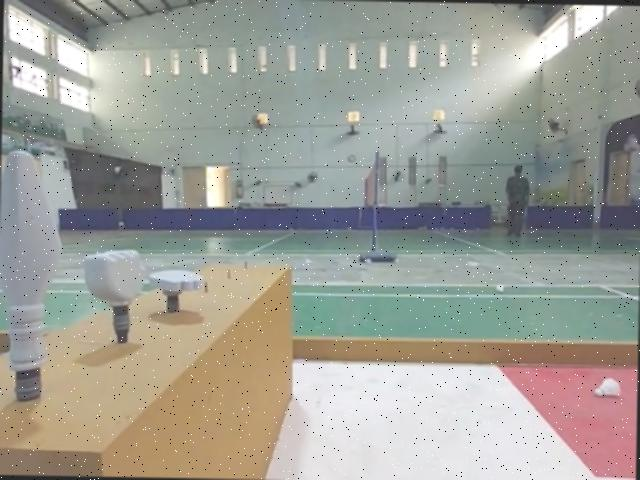Fist: (83, 244, 148, 343)
Hand: (153, 265, 206, 311)
Sph: (0, 144, 67, 404)
